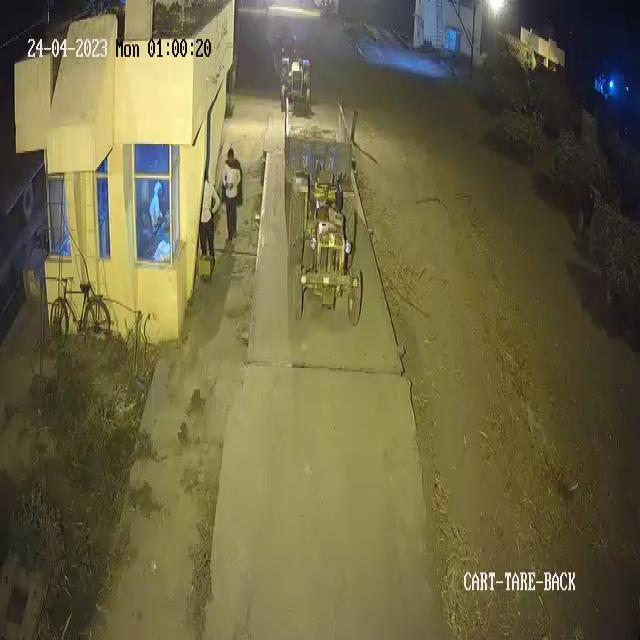Tratores - v5 YOLO V8L 2024-11-13: (284, 178, 368, 339), (278, 51, 316, 106)
